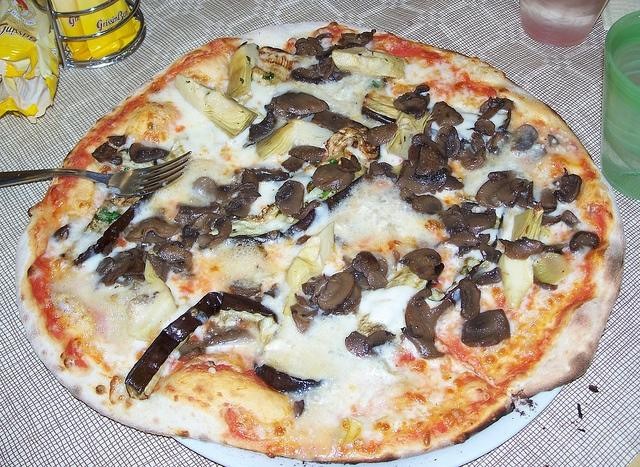mushroom: (400, 288, 455, 358), (395, 146, 464, 194), (312, 109, 397, 147), (342, 250, 400, 292), (274, 180, 323, 219), (460, 309, 510, 347), (255, 364, 321, 392), (310, 272, 356, 312), (448, 230, 502, 264), (194, 176, 259, 204), (122, 216, 182, 244), (244, 103, 278, 149), (412, 133, 448, 175), (398, 248, 442, 282), (345, 330, 397, 358), (174, 202, 222, 231), (322, 282, 362, 316), (393, 84, 430, 120), (153, 240, 192, 274), (280, 146, 326, 174), (100, 251, 136, 286), (290, 292, 320, 334), (459, 202, 496, 236), (399, 187, 442, 215), (290, 57, 334, 84), (455, 133, 486, 170), (312, 164, 355, 190), (198, 216, 232, 248), (498, 238, 544, 260), (458, 277, 481, 321), (554, 168, 582, 204), (441, 204, 470, 236), (430, 101, 464, 128), (434, 126, 461, 158), (122, 244, 146, 279), (130, 142, 168, 164), (485, 130, 513, 159), (508, 124, 538, 151), (91, 141, 123, 166), (189, 213, 224, 235), (242, 168, 290, 184), (540, 210, 580, 228), (337, 30, 376, 48), (361, 161, 398, 179), (294, 36, 324, 58), (352, 251, 379, 273), (149, 254, 170, 282), (472, 266, 502, 285), (229, 280, 262, 297), (222, 198, 250, 217), (540, 188, 558, 215), (470, 119, 496, 136), (339, 155, 362, 172), (238, 189, 262, 204), (478, 104, 500, 120), (96, 256, 115, 274), (52, 224, 70, 241), (510, 178, 530, 193), (107, 134, 126, 147), (306, 182, 316, 193)
